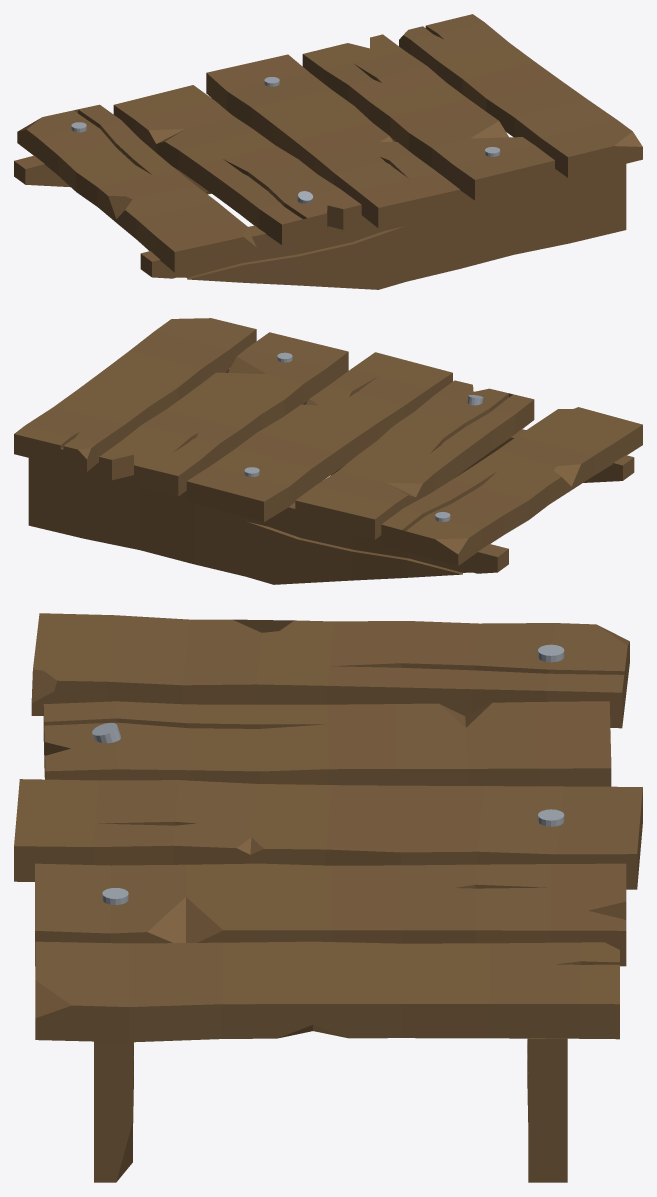
File: Dock 5.fbx
3 views of the same model, one above another, from view 1: azimuth 30°, elevation 25°; view 2: azimuth 150°, elevation 25°; view 3: azimuth 270°, elevation 25° (orthographic). The views are drawn at different scales.
Parts seen in each view (by area): view 1: Dock 5; view 2: Dock 5; view 3: Dock 5.
Part boxes in pixels (left/top/right/bottom): Dock 5: left=14, top=14, right=642, bottom=289; Dock 5: left=14, top=318, right=642, bottom=584; Dock 5: left=14, top=613, right=642, bottom=1182.
Size of the model in its own units: 3.68 by 0.8219 by 2.46.
